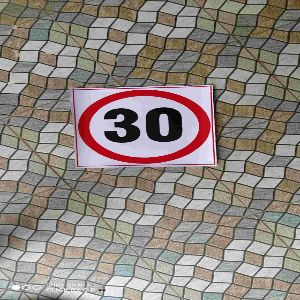speedlimit30: (74, 89, 214, 167)
